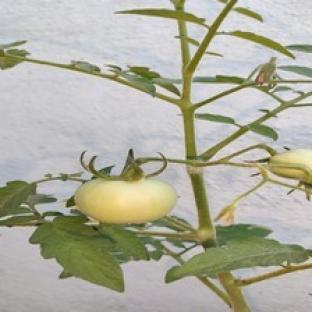Tomato: (74, 179, 176, 224), (268, 150, 311, 183)
